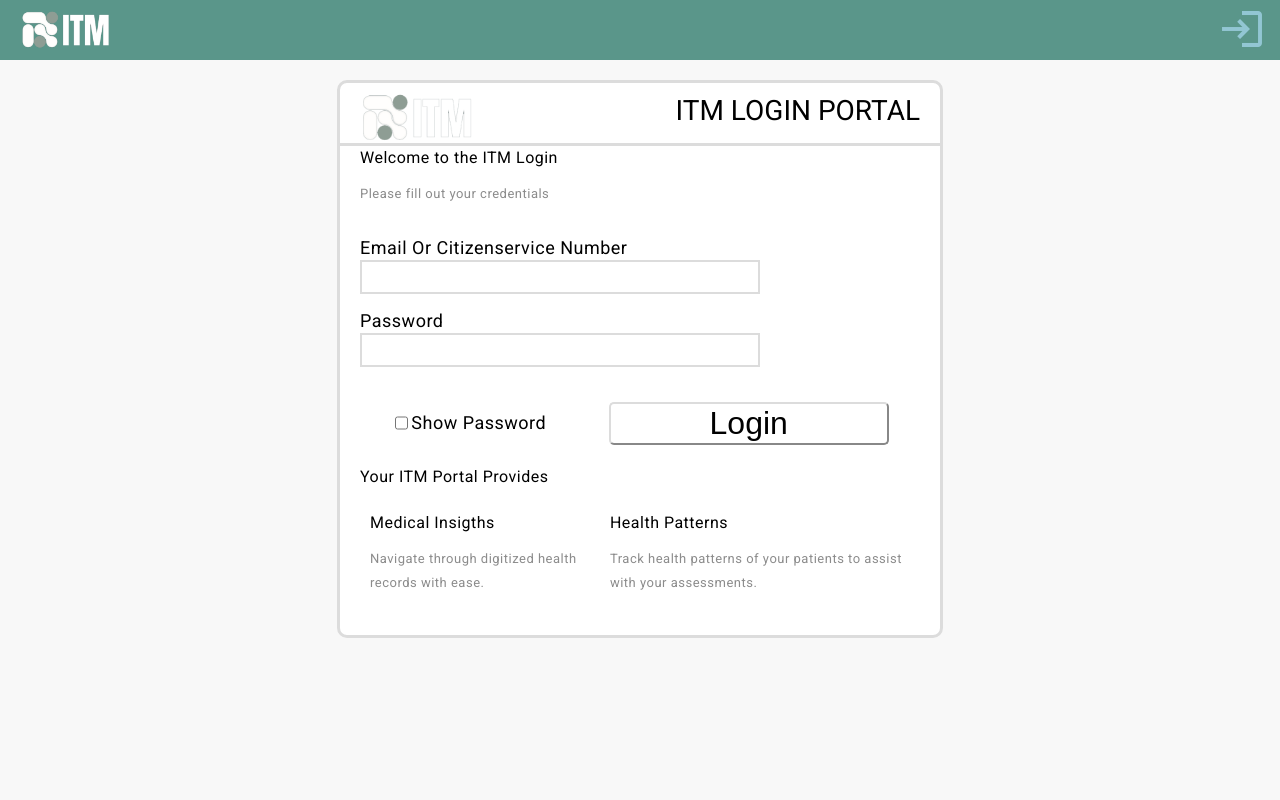
it: Login Page › should display an error message on unsuccessful login
Type "123456789" into the field named "bsnOrEmail" at (560, 277), box [360,260,760,294]
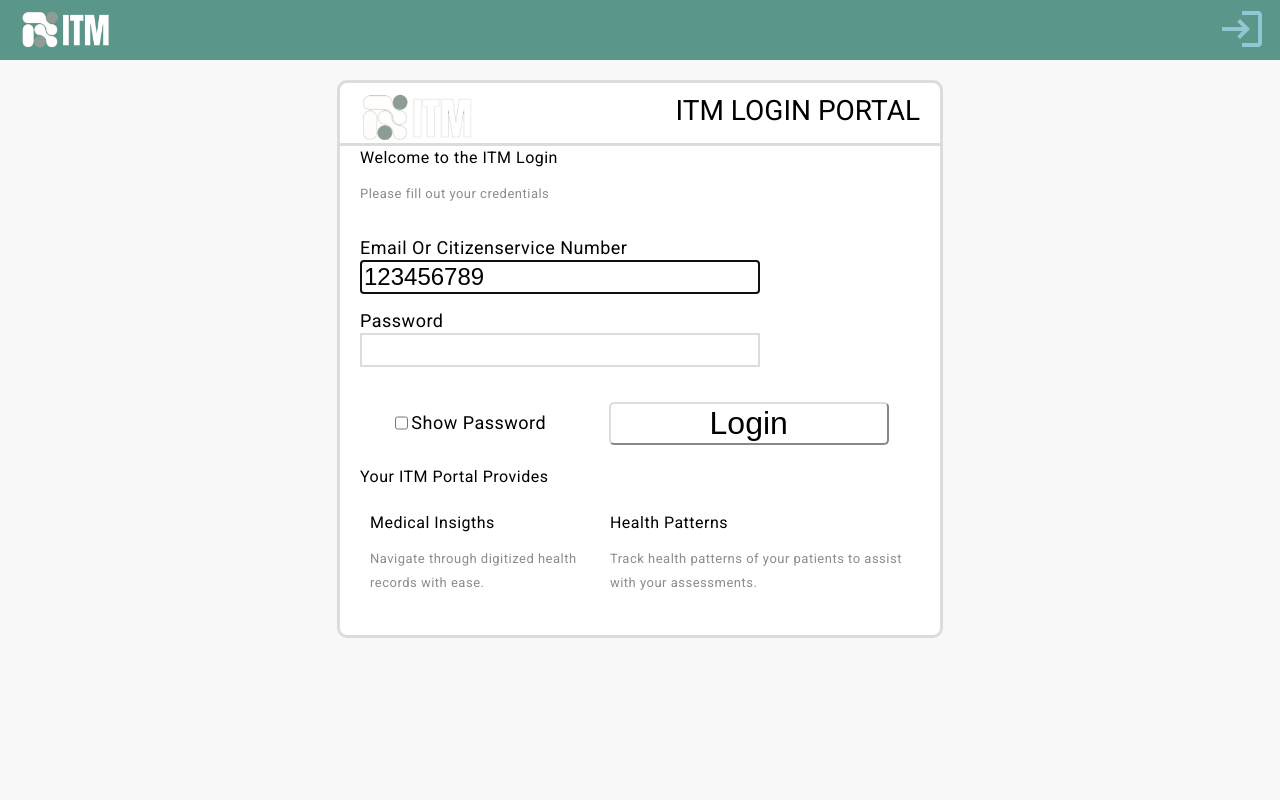
Type "password123" into the password field named "password" at (560, 350), box [360,333,760,367]
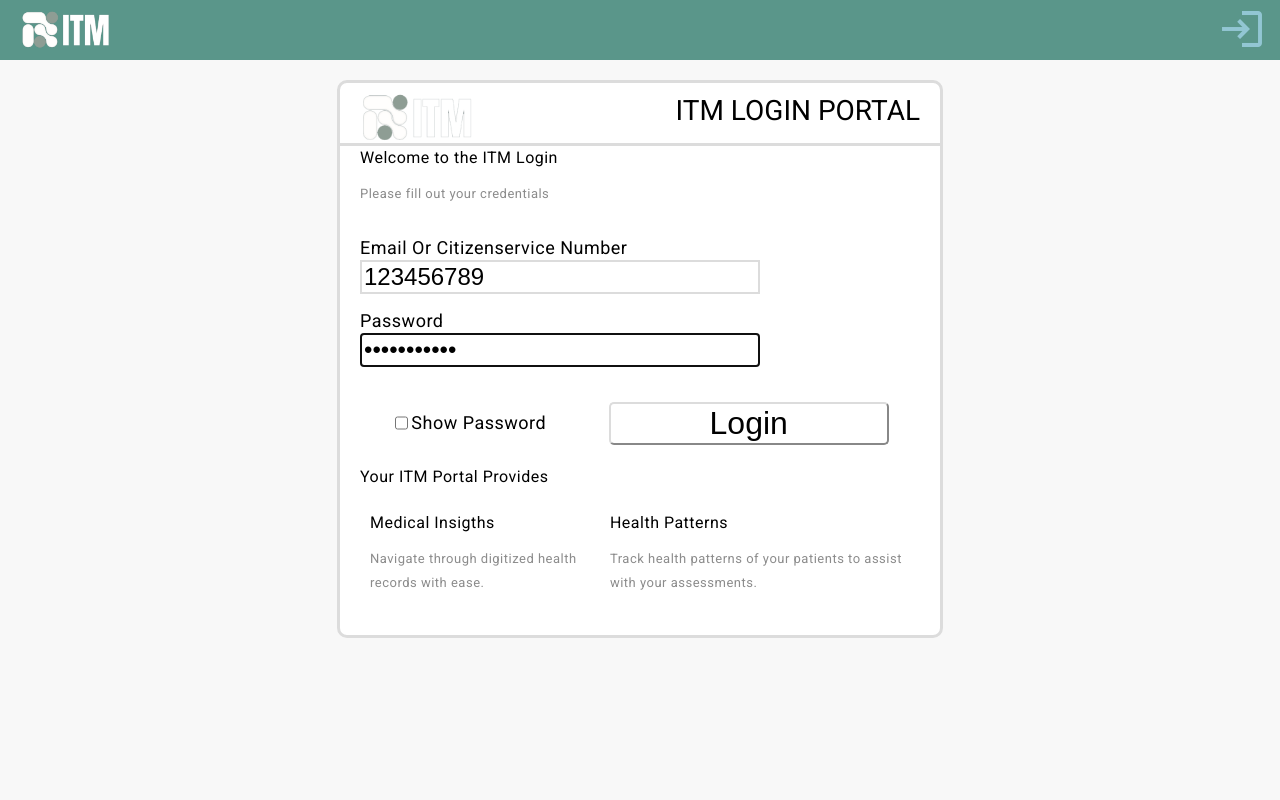
Note: Submit the form
Click the submit button at (749, 424), box [609,402,889,445]
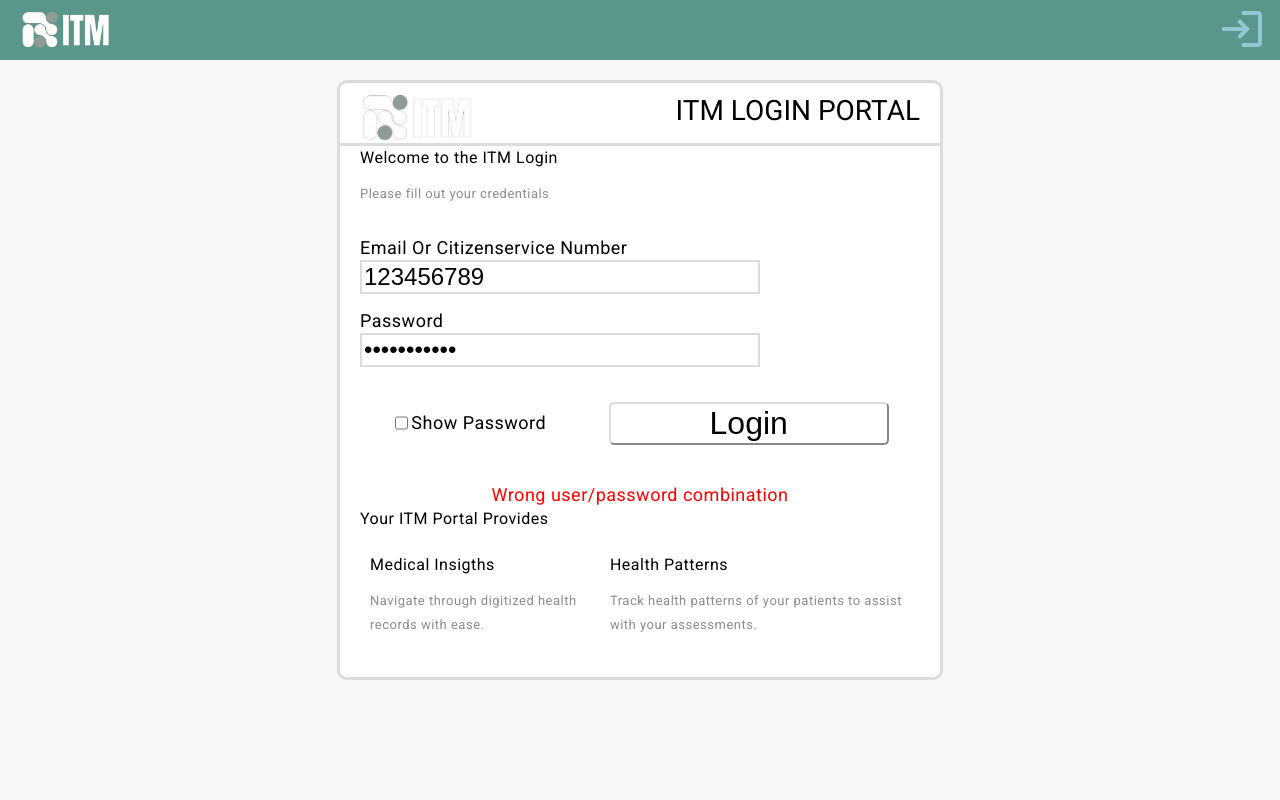
Check: the text with class "errorMessage" reads "Wrong user/password combination", box [491,484,788,505]
